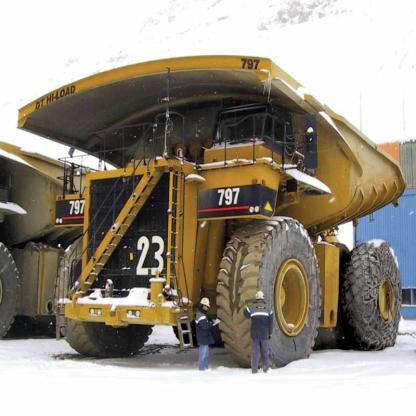dump_truck: (14, 38, 403, 364)
person: (247, 284, 273, 378), (196, 291, 221, 373)
